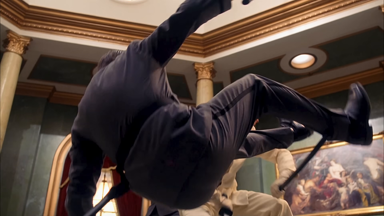bladed_weapon: (270, 135, 328, 196)
